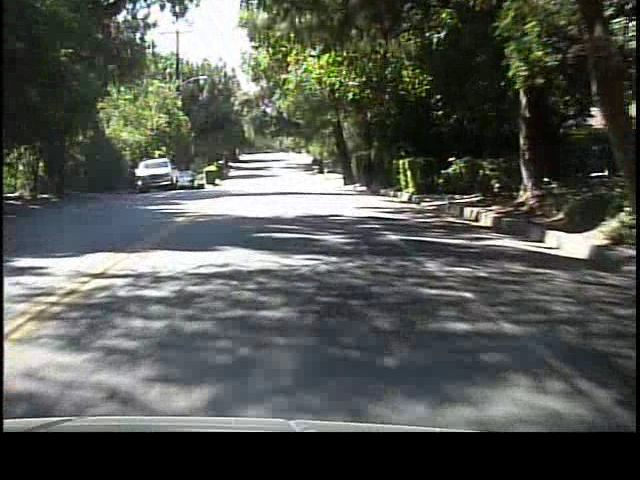person: (360, 154, 379, 199)
